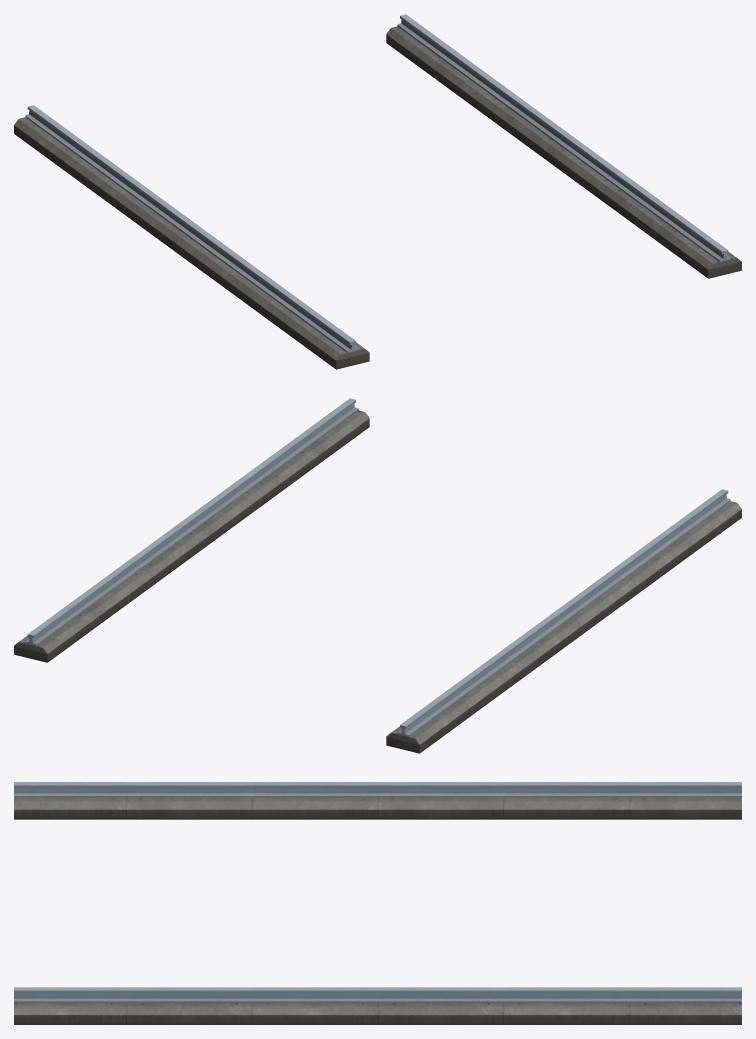
The model's file is rails.fbx.
3 renders of one model, top to bottom at view 1: azimuth 30°, elevation 25°; view 2: azimuth 150°, elevation 25°; view 3: azimuth 270°, elevation 25°, orthographic. The views are drawn at different scales.
Visible parts, largest first — view 1: rails; view 2: rails; view 3: rails.
Boxes of the visible parts, x1,y1,x2,y2 form: rails: [14, 14, 741, 369]; rails: [14, 398, 741, 753]; rails: [14, 782, 741, 1024].
Bounding box in the file's own units: 727 × 40.74 × 1000.
